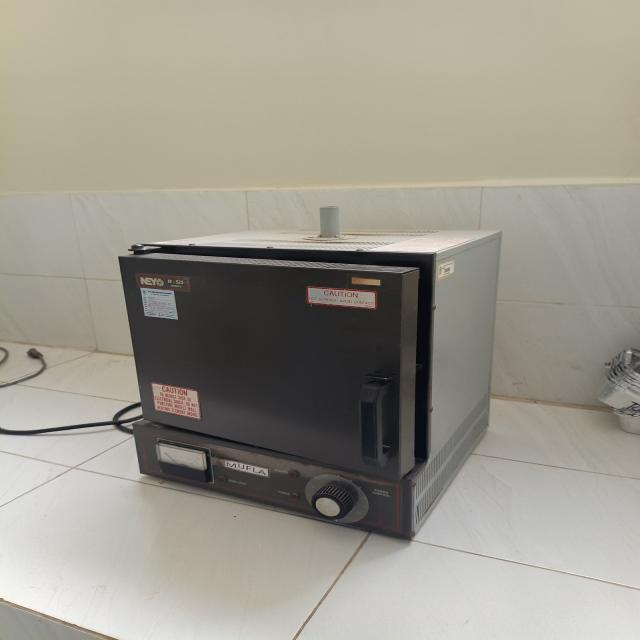Mufla Electrica de Laboratorio: (119, 206, 500, 540)
